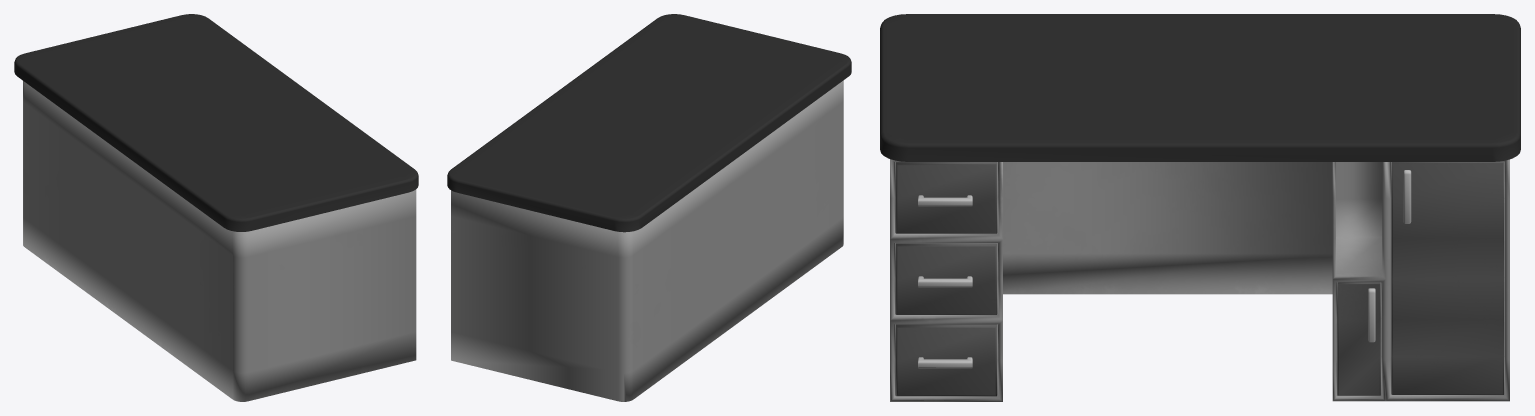
File: Med_Office_Desk.glb
The picture shows the model from 3 angles, left to right: view 1: azimuth 30°, elevation 25°; view 2: azimuth 150°, elevation 25°; view 3: azimuth 270°, elevation 25°; orthographic projection. The views are drawn at different scales.
Visible parts, largest first — view 1: SM_Med_Office_Desk; view 2: SM_Med_Office_Desk; view 3: SM_Med_Office_Desk.
Boxes of the visible parts, x1,y1,x2,y2 form: SM_Med_Office_Desk: (14,14,418,401); SM_Med_Office_Desk: (447,14,851,401); SM_Med_Office_Desk: (880,14,1520,401).
Size of the model in its own units: 0.8134 by 0.7472 by 1.66.
Materials: 1 (1 with a texture image).
